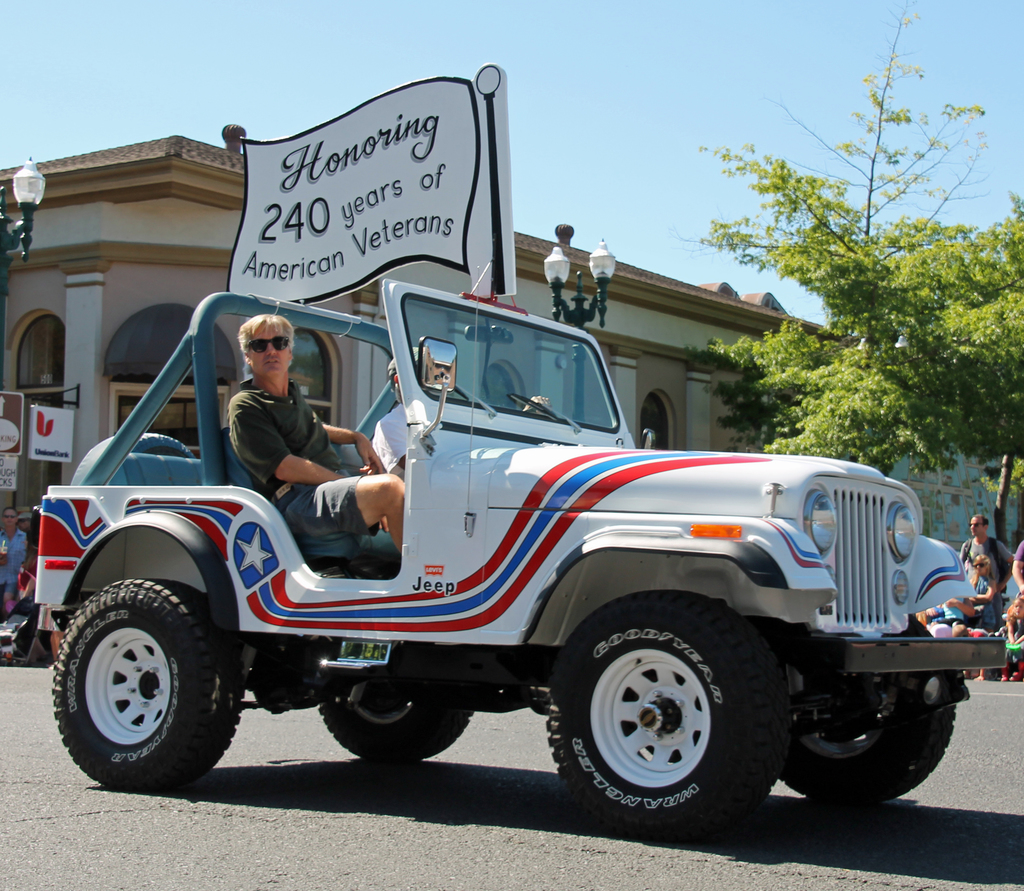Car: (33, 289, 1004, 831)
